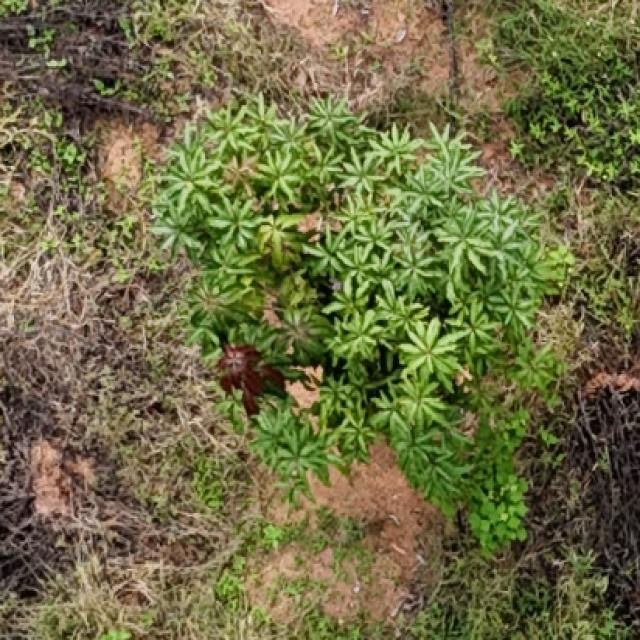mangoTree: (143, 89, 570, 515)
